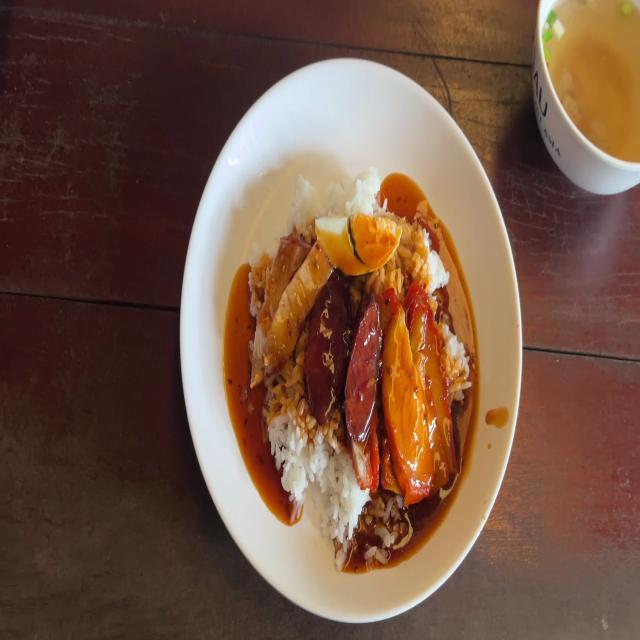red_pork_and_crispy_pork: (317, 221, 395, 274)
stir_fried_basil: (302, 278, 374, 434), (343, 292, 377, 439), (311, 286, 347, 412)
